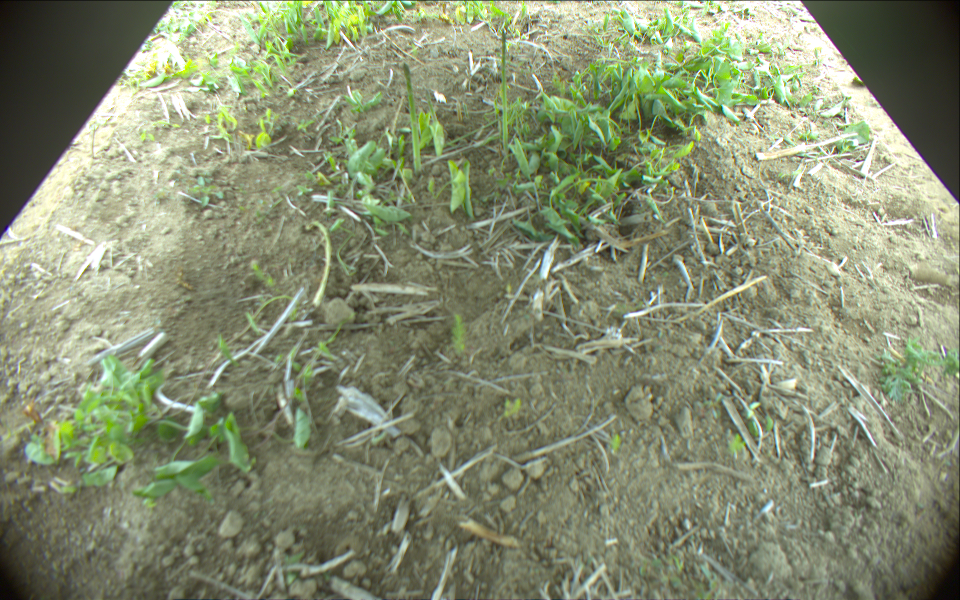aspa: (308, 221, 332, 306), (403, 61, 421, 173), (500, 31, 512, 158)
